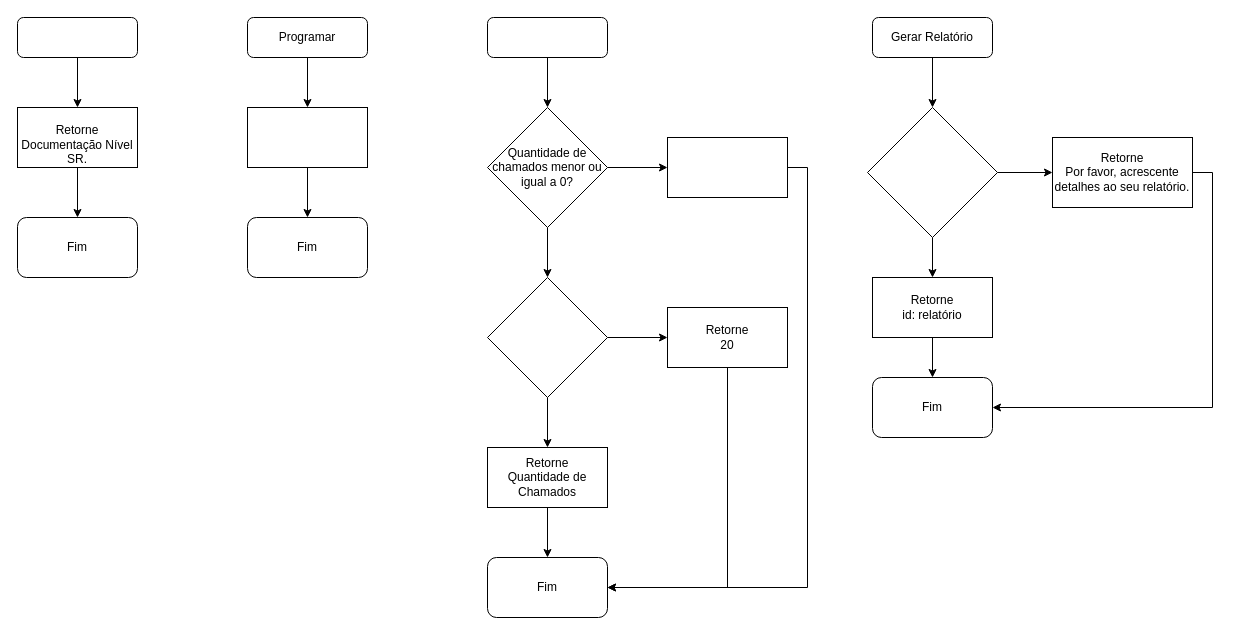
The diagram is 1238 pixels wide and 635 high, and some of its shapes have lost their labels. The shapes that lost their labels are listed below. From the top down, each one's centre as x and y in pixels, then its label:
(x=77, y=37): Documentar
(x=547, y=37): Resolver Chamados
(x=307, y=137): Retorne Programação Nível SR.
(x=727, y=167): Retorne 0
(x=932, y=172): Quantidade de letras menor do que 10?
(x=547, y=337): Quantidade de chamados maior ou igual a 20?
